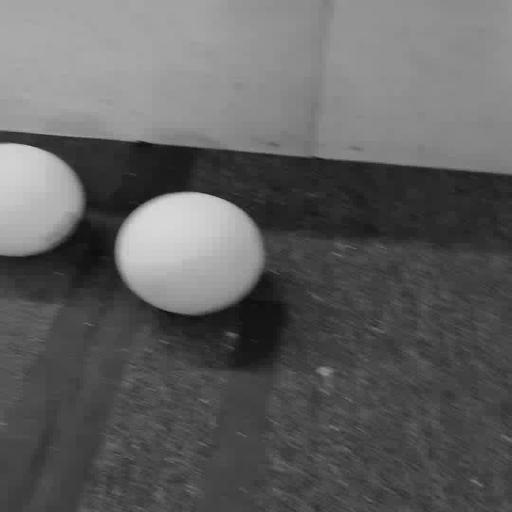fuel: (115, 192, 265, 315), (0, 144, 85, 256)
